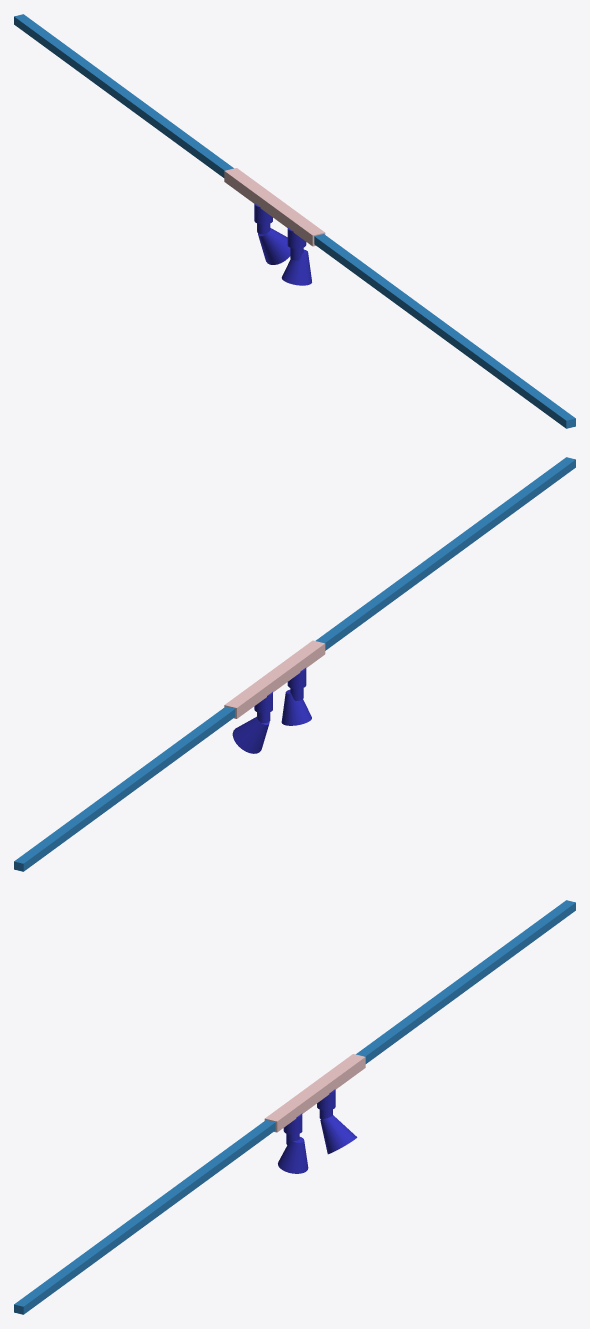
3 views of the same model, one above another, from view 1: azimuth 30°, elevation 25°; view 2: azimuth 150°, elevation 25°; view 3: azimuth 330°, elevation 25° (orthographic).
Parts seen in each view (by area): view 1: bar, middle_sleeve, angled_body, flared_body; view 2: bar, middle_sleeve, angled_body, flared_body; view 3: bar, middle_sleeve, angled_body, flared_body.
Boxes of the visible parts, x1,y1,x2,y2 form: bar: (14, 14, 575, 428); middle_sleeve: (224, 168, 325, 246); angled_body: (254, 203, 290, 264); flared_body: (281, 227, 311, 285); bar: (14, 457, 575, 871); middle_sleeve: (224, 640, 325, 718); angled_body: (232, 692, 272, 753); flared_body: (281, 668, 311, 725); bar: (14, 900, 575, 1314); middle_sleeve: (264, 1054, 365, 1132); angled_body: (317, 1089, 357, 1154); flared_body: (278, 1113, 308, 1173).
Size of the model in its own units: 0.00435 by 0.00709 by 0.1.
